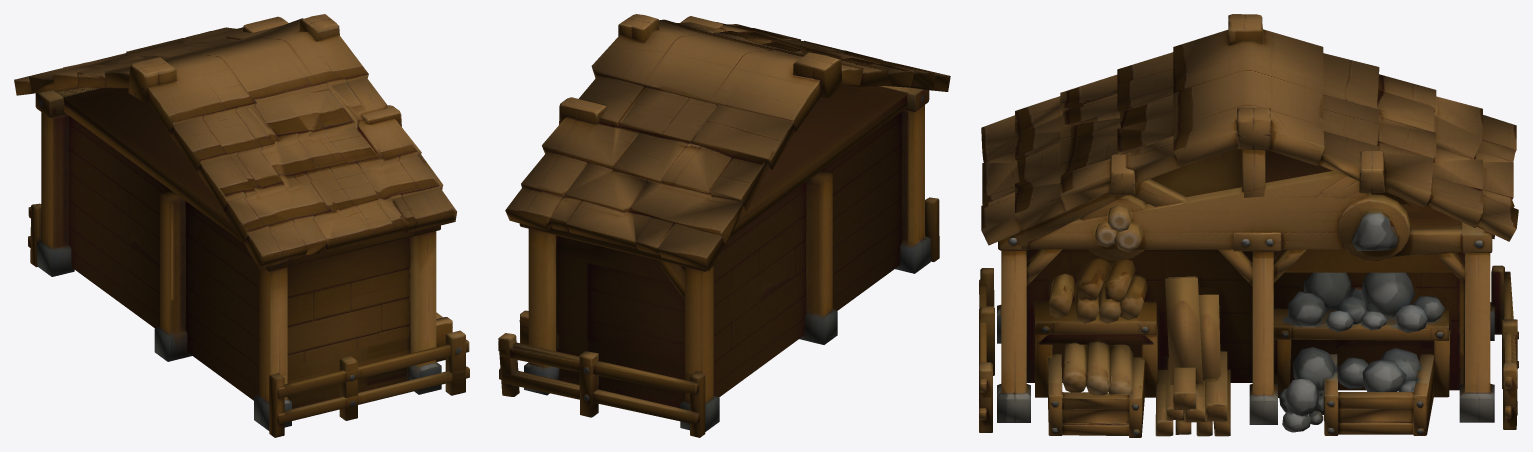
Rendered from tripo_convert_bb51dc71-1374-4e6c-8789-8c8b39bcee72.fbx.
3 renders of one model, left to right at view 1: azimuth 30°, elevation 25°; view 2: azimuth 150°, elevation 25°; view 3: azimuth 270°, elevation 25°, orthographic. The views are drawn at different scales.
Visible parts, largest first — view 1: tripo_node_bb51dc71; view 2: tripo_node_bb51dc71; view 3: tripo_node_bb51dc71.
Boxes of the visible parts, x1,y1,x2,y2 form: tripo_node_bb51dc71: [14, 14, 469, 437]; tripo_node_bb51dc71: [498, 14, 950, 437]; tripo_node_bb51dc71: [979, 14, 1518, 437].
Size of the model in its own units: 0.5371 by 0.6309 by 0.998.
1 material, 1 textured.
